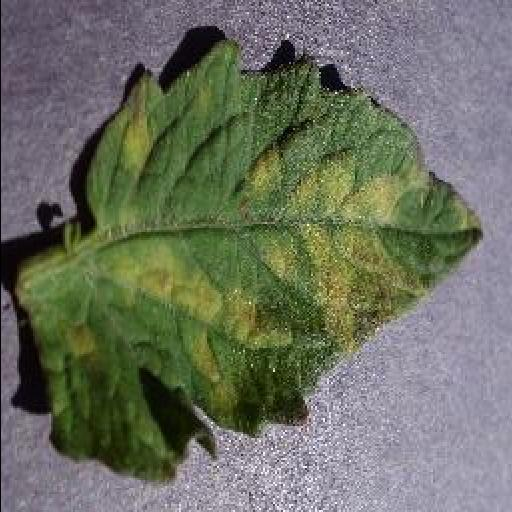disease_tomato: (16, 39, 482, 483)
